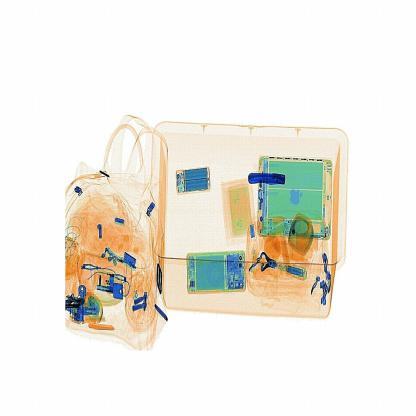knife: (247, 171, 288, 190)
